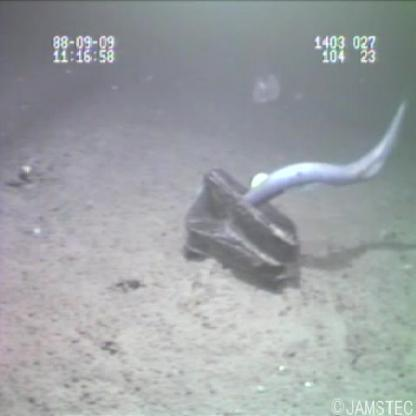Bio: (233, 99, 414, 210)
Rác: (179, 163, 306, 295)
